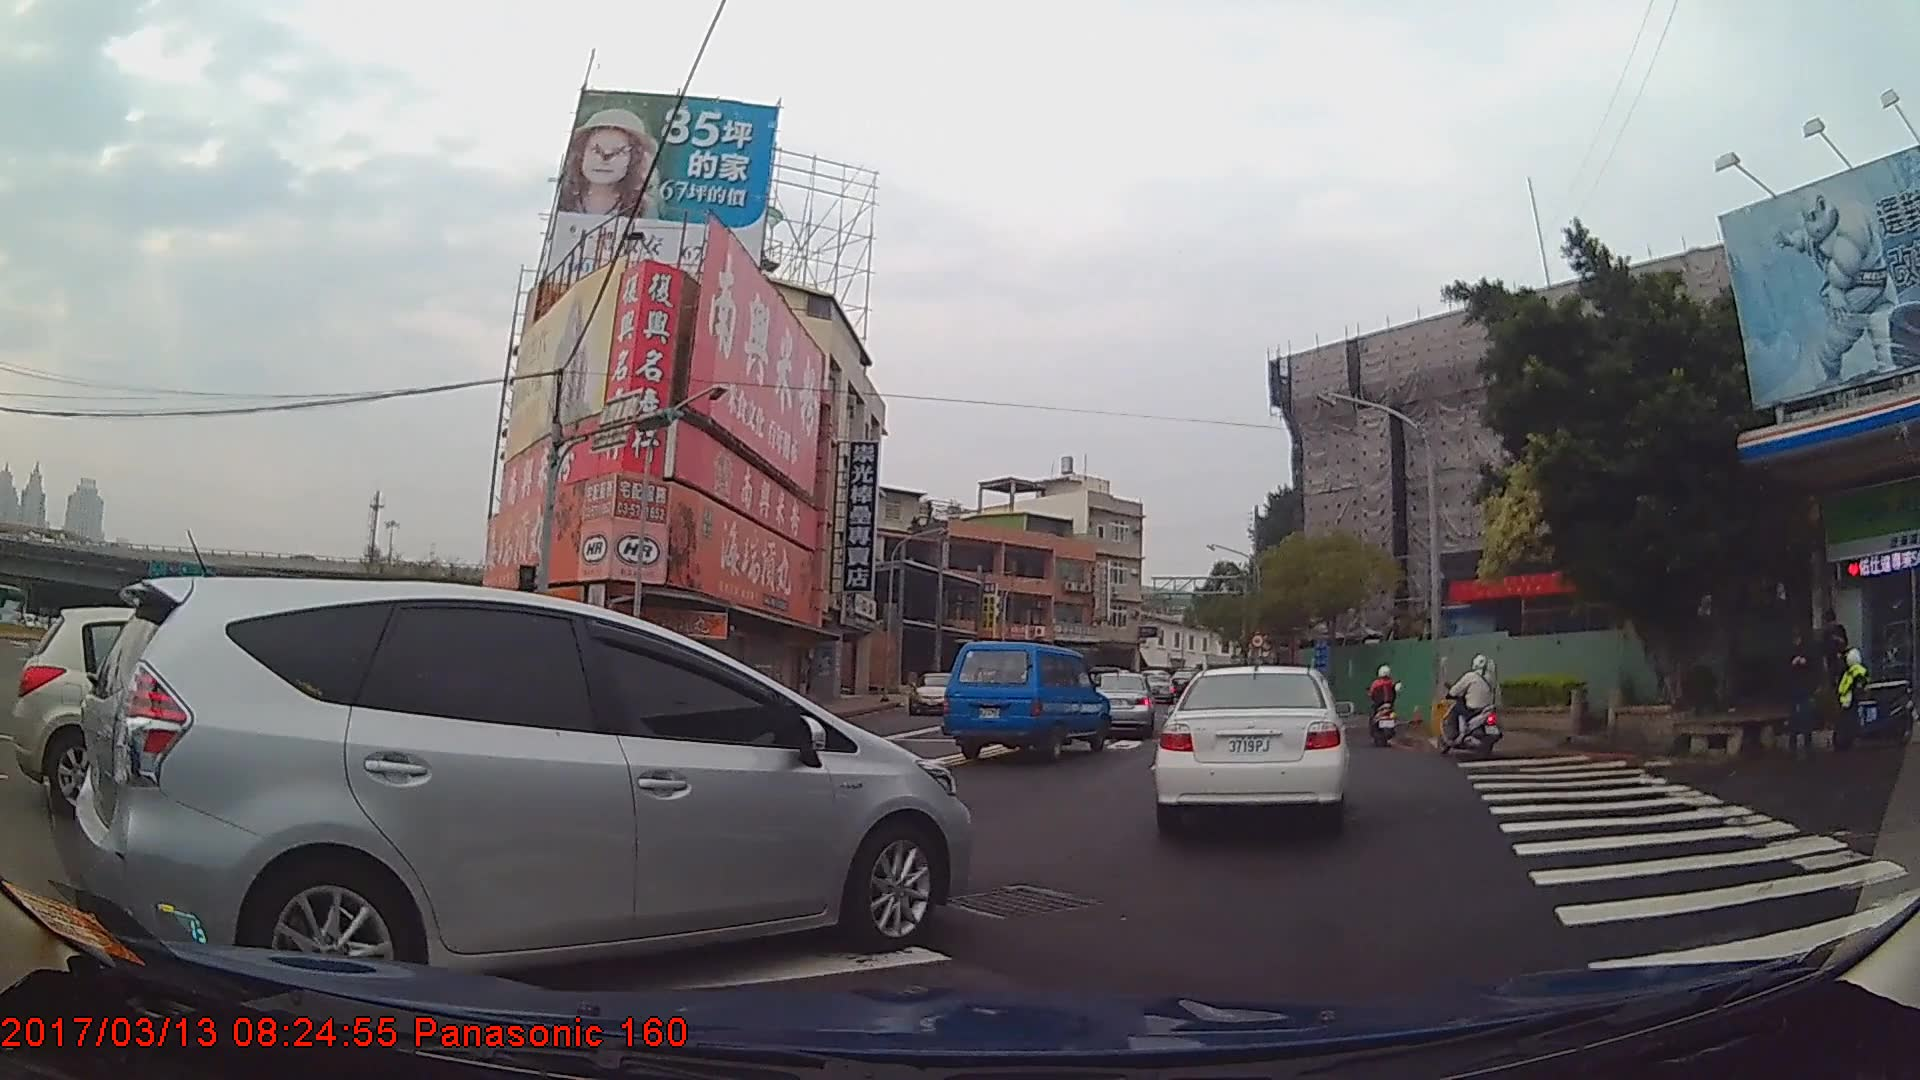pedestrian: (1778, 631, 1824, 754), (1809, 607, 1847, 716)
rider: (1439, 653, 1503, 753), (1370, 663, 1401, 745)
vehicle: (73, 576, 979, 1002), (1153, 667, 1348, 841), (940, 642, 1110, 762), (1082, 669, 1156, 737), (907, 672, 965, 720)
